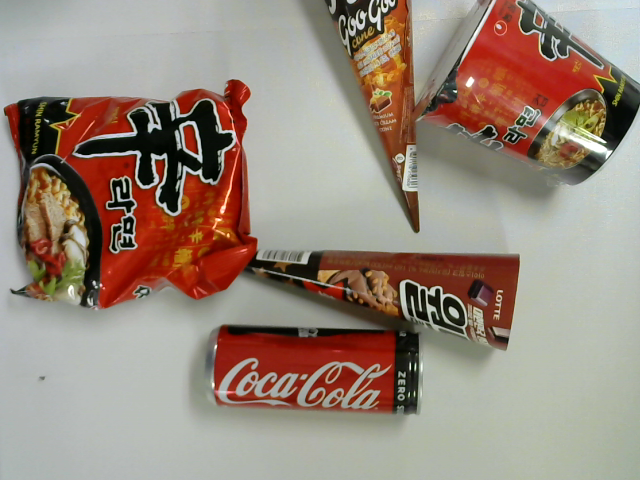Coca_Cola_Zero_Can_250ml: (196, 320, 428, 423)
GooGoo_Cone_CVS: (307, 1, 427, 236)
Sinramen: (1, 74, 267, 310)
Sinramen_small: (410, 1, 636, 189)
World_Cone_Choco: (199, 228, 531, 359)
